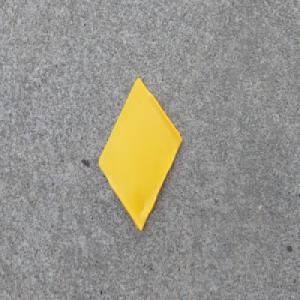PlasticPart: (97, 76, 183, 234)
